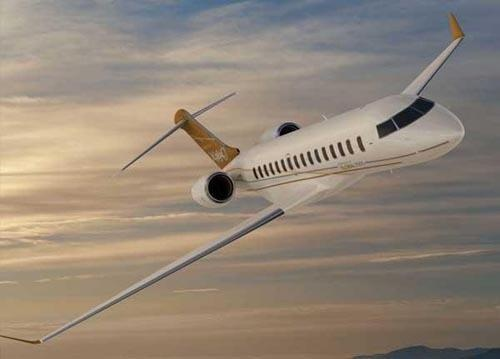airplane: (3, 10, 477, 347)
